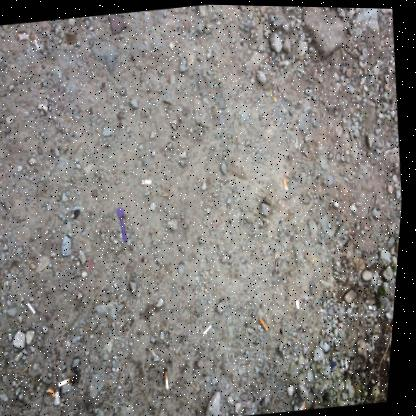Plastic: (119, 205, 130, 240)
Waste: (264, 315, 273, 329), (63, 376, 77, 385), (207, 321, 217, 332), (169, 367, 174, 387), (31, 301, 40, 312), (51, 387, 61, 395), (39, 102, 49, 110), (60, 390, 66, 403), (285, 175, 290, 187), (143, 177, 154, 182), (93, 257, 96, 270), (300, 296, 304, 305), (349, 357, 353, 366), (308, 397, 311, 406), (372, 302, 376, 306), (377, 331, 378, 343)
